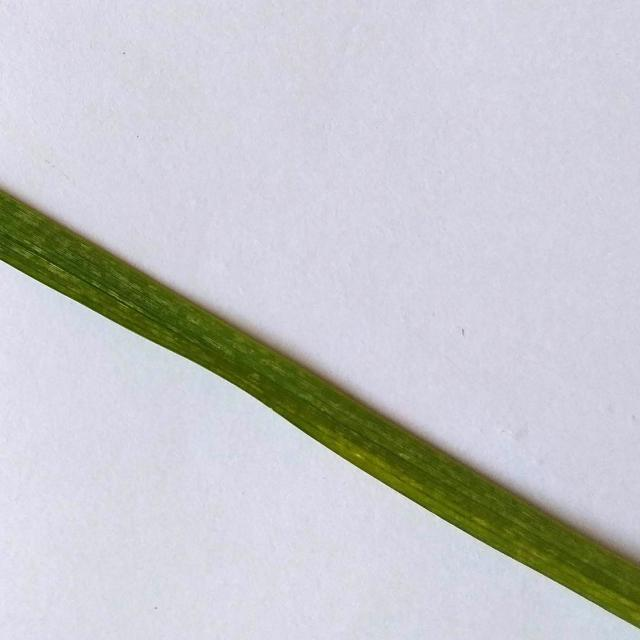Rice_Healthy: (0, 188, 640, 628)
